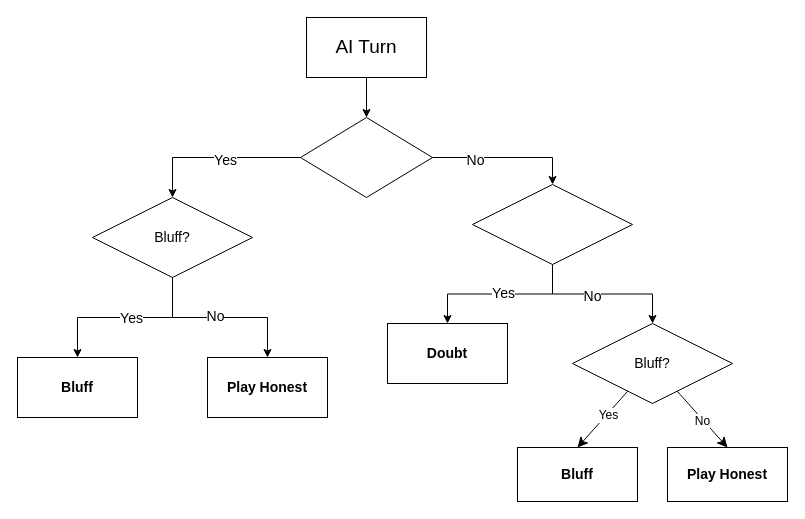
The diagram is 805 pixels wide and 519 high, and some of its shapes have lost their labels. The shapes that lost their labels are listed below. From the top down, each one's box as (x1, y1, x2, y2) in pixels, then its label:
(300, 116, 432, 198): Is first hand?
(472, 184, 632, 264): Doubt?
